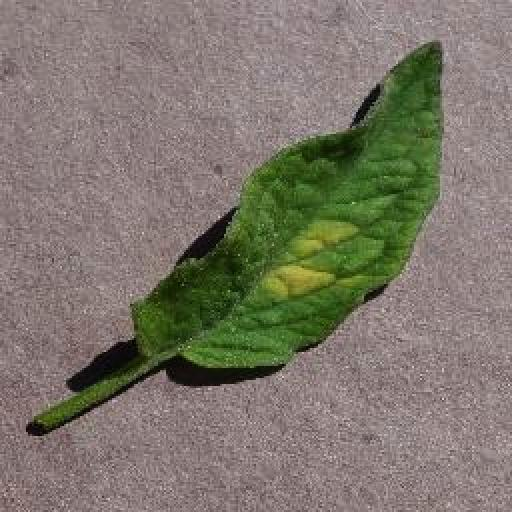disease_tomato: (128, 40, 442, 372)
